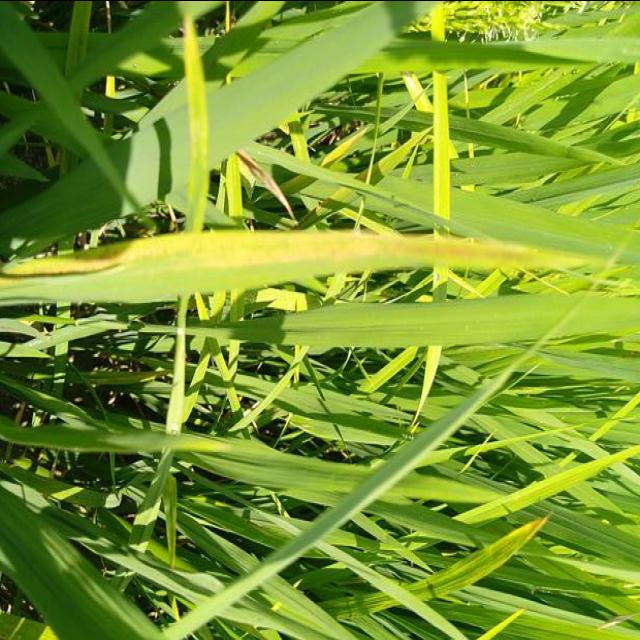Leaf Streak: (0, 230, 519, 286), (181, 19, 206, 229), (480, 514, 548, 577)
